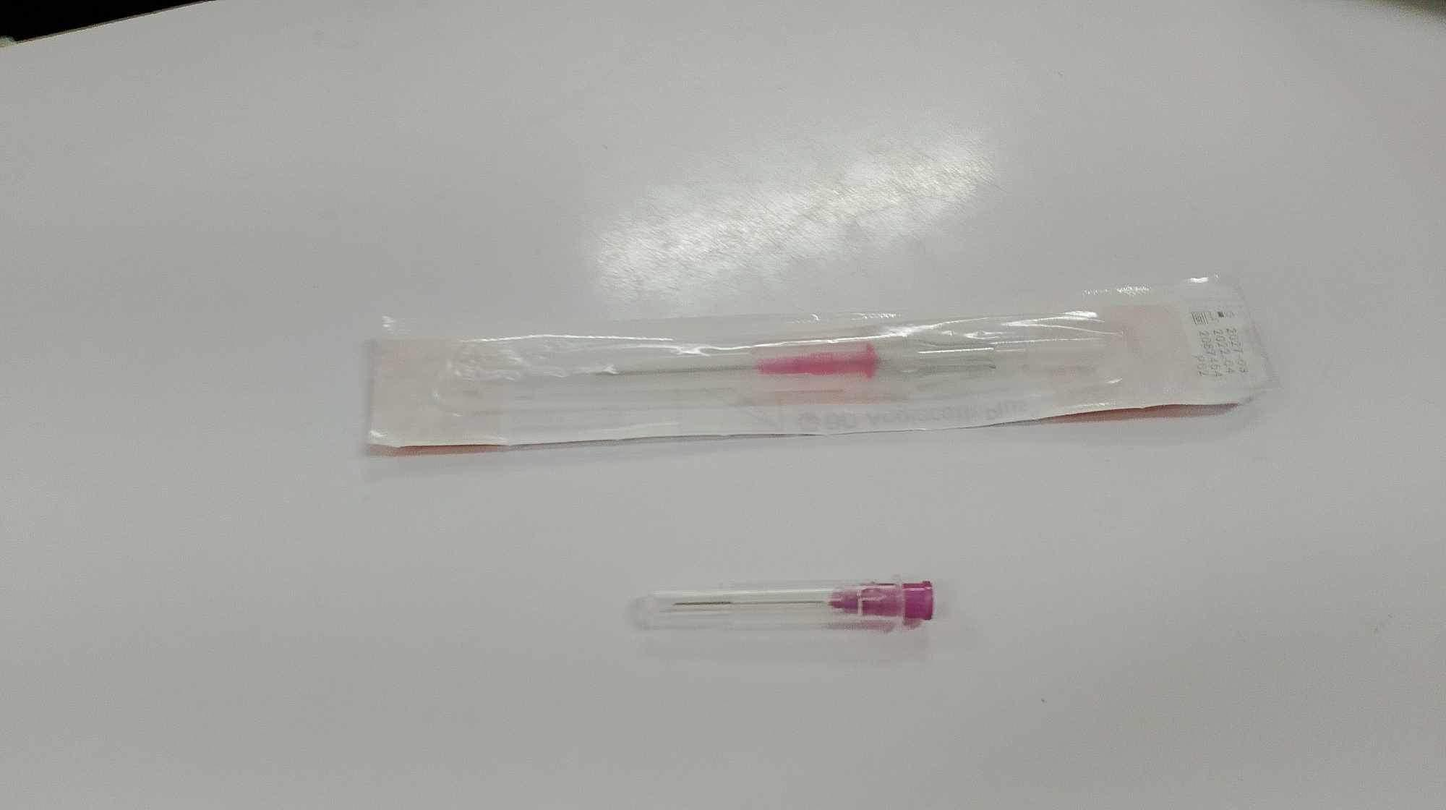General: (361, 270, 1276, 458)
Sharps: (631, 576, 936, 628)
